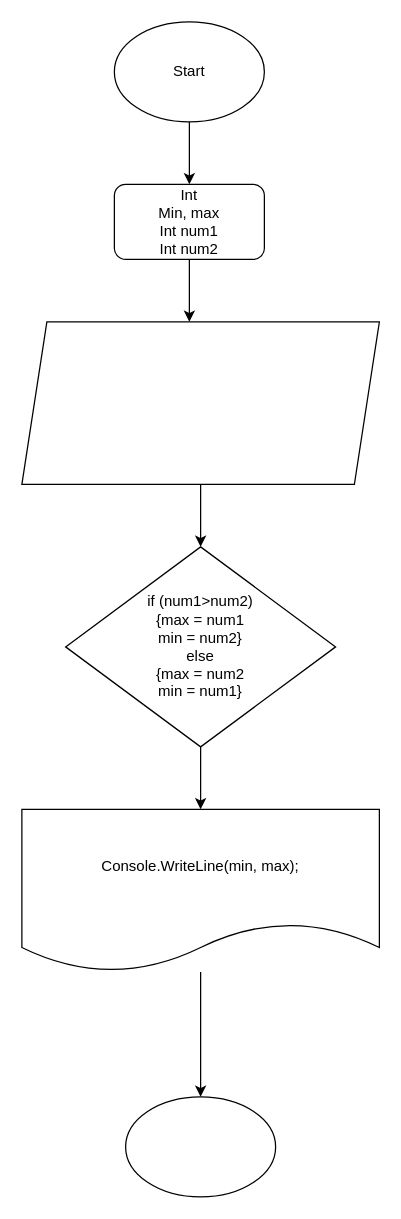
This 401x1219 diagram has some shape labels left out. Here are the shapes that lost their labels. From the top down, the centre of each, then its label:
pixel 200 402: Int num1 = Console.ReadLine(); Int num2 = Console.ReadLine();
pixel 200 1146: Fin
